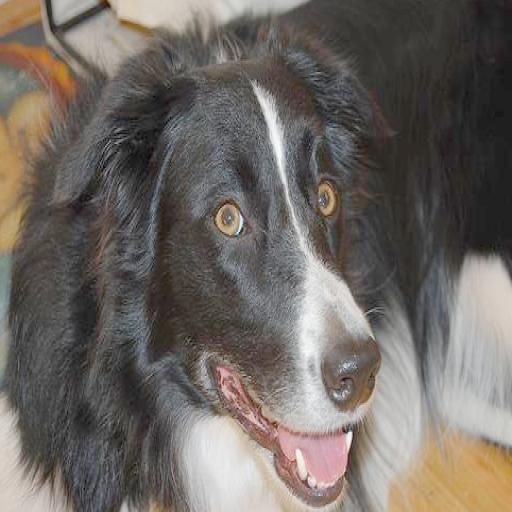dog_face: (89, 47, 404, 484)
